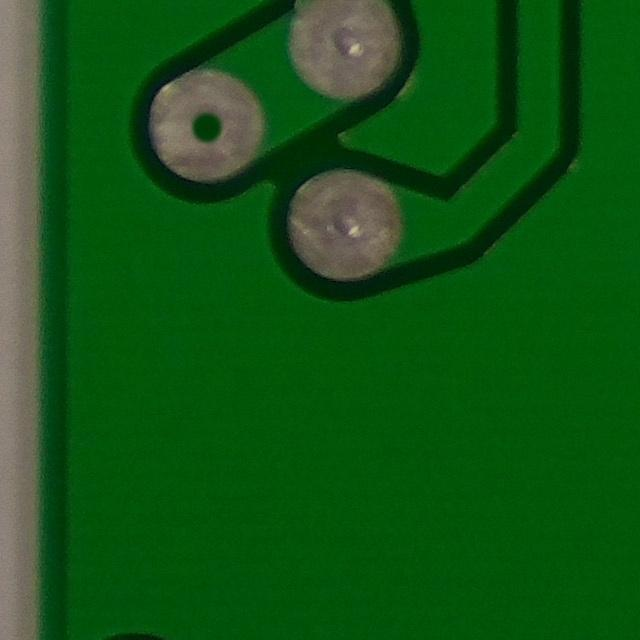missing_hole: (137, 73, 273, 189)
